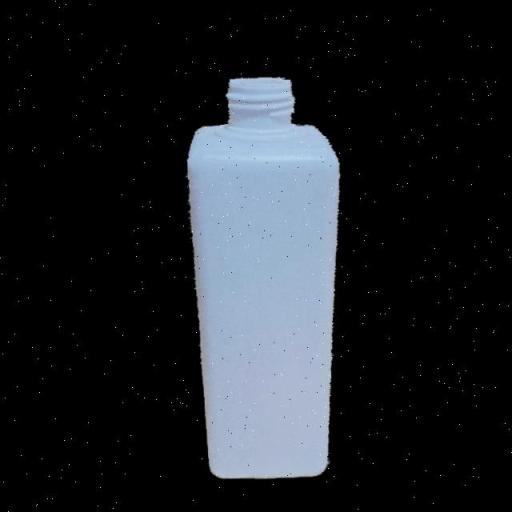plastic: (177, 72, 350, 483)
